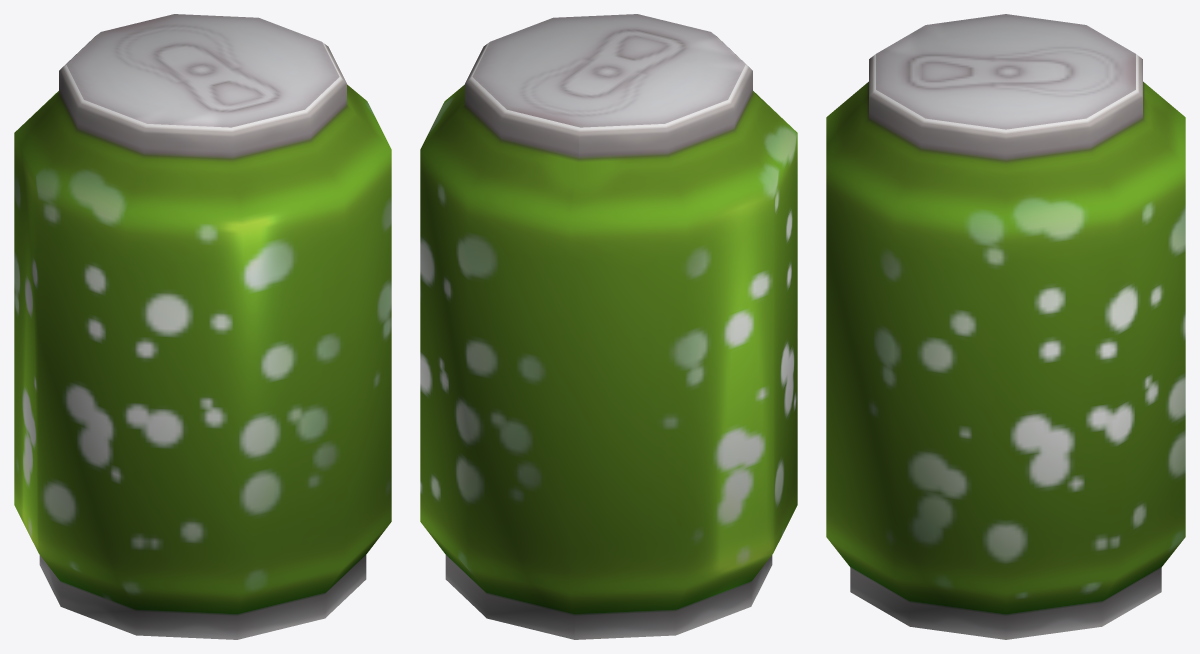
Rendered from CafeFood01_10.FBX.
3 views of the same model, side by side, from view 1: azimuth 30°, elevation 25°; view 2: azimuth 150°, elevation 25°; view 3: azimuth 270°, elevation 25° (orthographic).
Visible parts, largest first — view 1: CafeFood01_10; view 2: CafeFood01_10; view 3: CafeFood01_10.
Boxes of the visible parts, bbox=[...] form: CafeFood01_10: bbox=[14, 14, 391, 639]; CafeFood01_10: bbox=[420, 14, 797, 639]; CafeFood01_10: bbox=[826, 14, 1185, 639].
Size of what is drawn, in the model's own units: 0.1094 by 0.1594 by 0.104.
